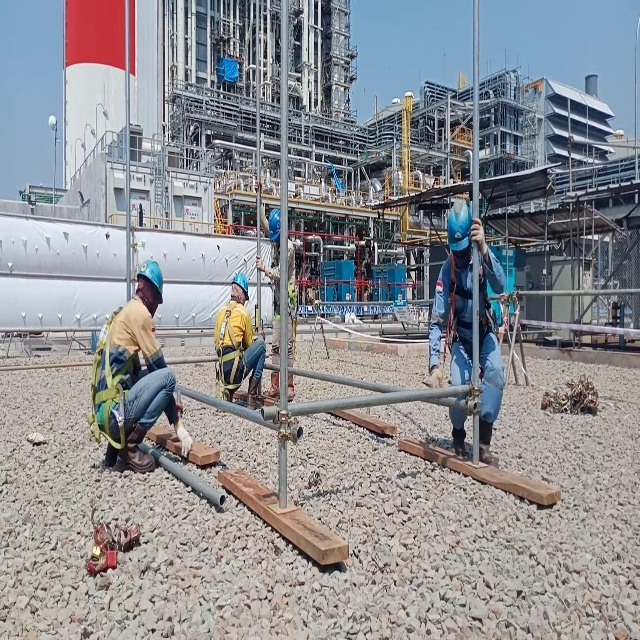Arnes_seguridad: (86, 301, 133, 455), (441, 248, 495, 369), (215, 300, 247, 402)
